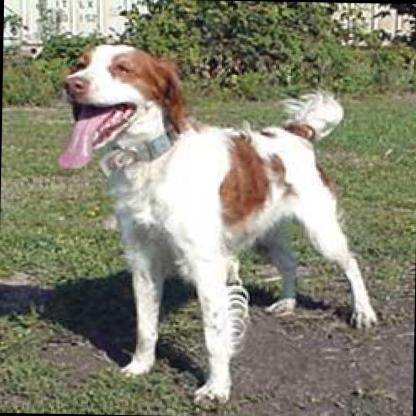Brittany_spaniel: (51, 39, 380, 405)
